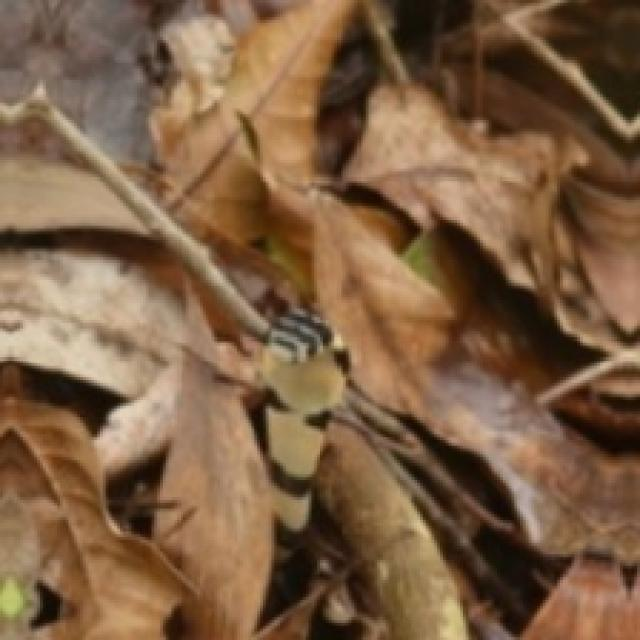king cobra: (0, 229, 343, 529)
